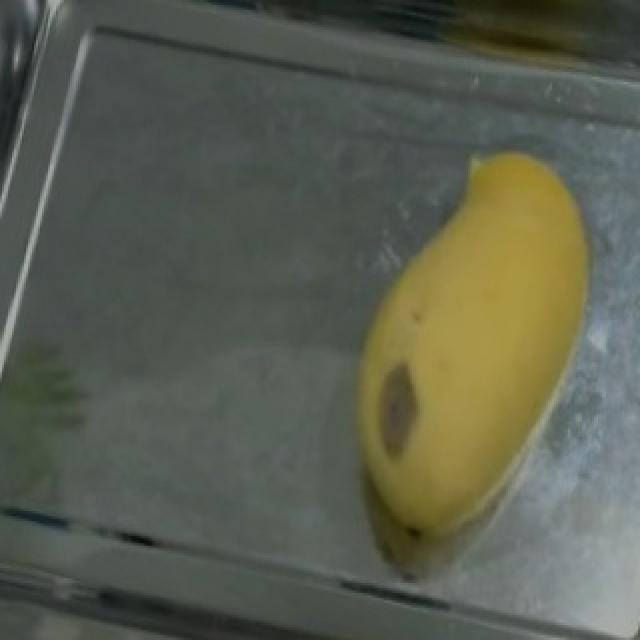fruit: (324, 129, 634, 506)
